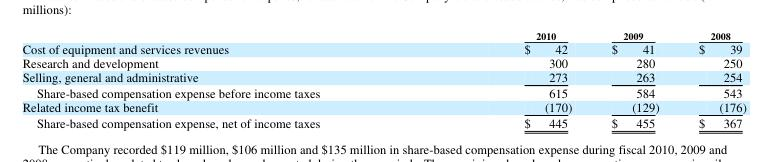table: (21, 28, 745, 130)
table column: (21, 28, 421, 130), (421, 28, 591, 130), (591, 28, 678, 130), (678, 28, 745, 130)
table column header: (21, 28, 745, 41)
table row: (21, 114, 745, 130), (21, 69, 745, 84), (21, 84, 745, 99), (21, 99, 745, 114), (21, 41, 745, 55), (21, 55, 745, 69), (21, 28, 745, 41)
